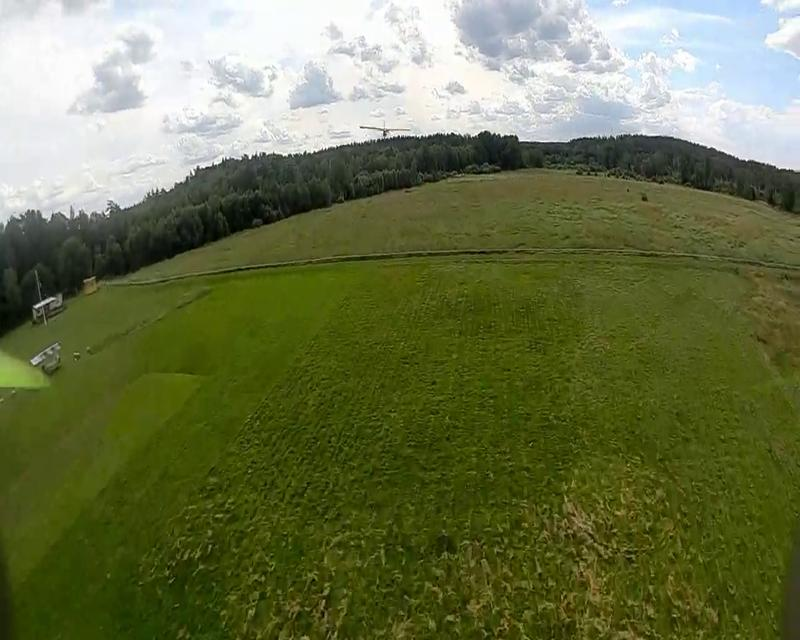UAV: (358, 118, 411, 138)
